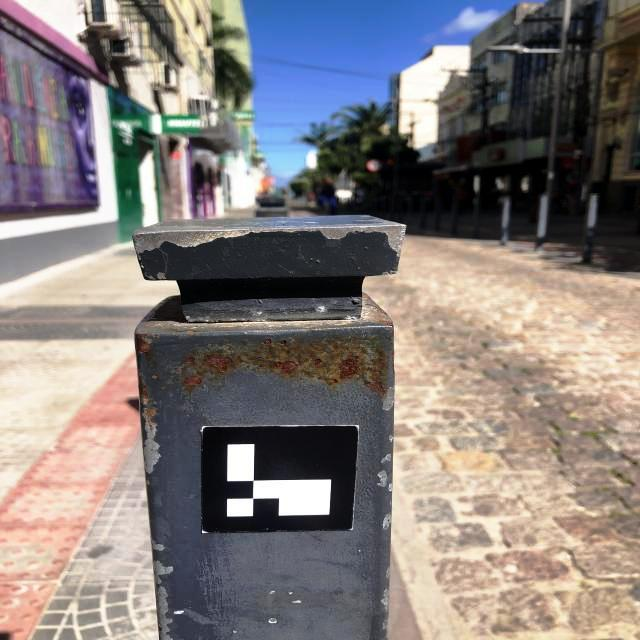Corrosion: (175, 335, 392, 404), (134, 327, 151, 355), (375, 319, 394, 337), (139, 378, 149, 405), (144, 408, 155, 429), (144, 323, 175, 329), (153, 333, 160, 339), (152, 374, 158, 379), (362, 293, 369, 297), (186, 331, 195, 334)
